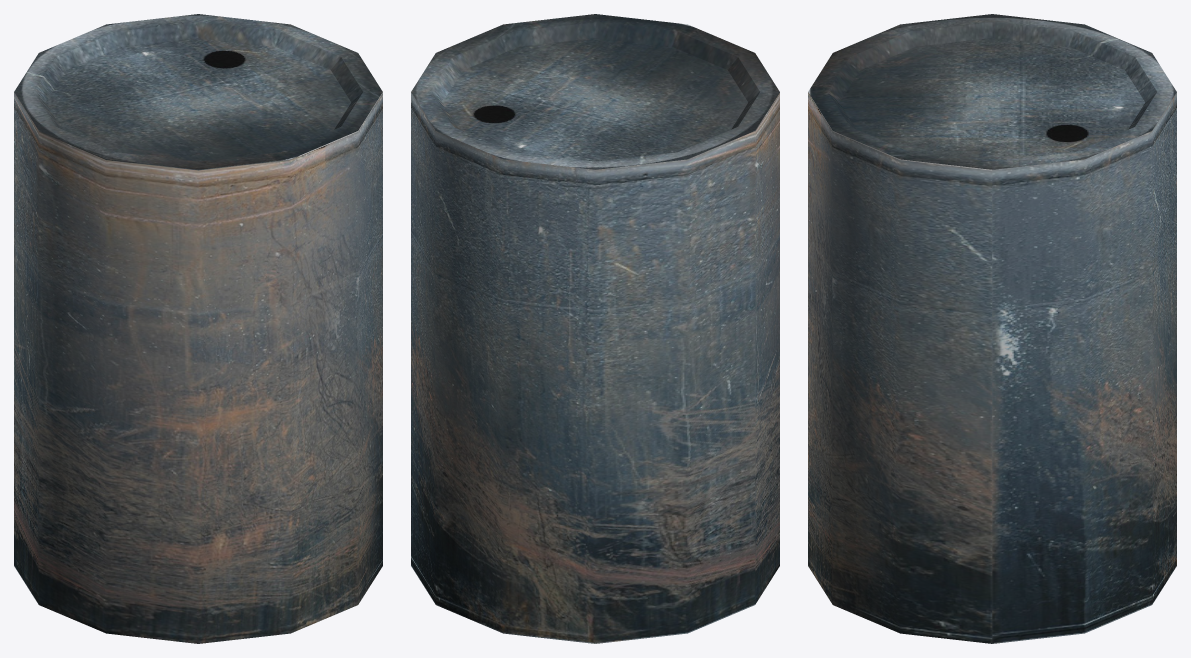
File: barrel.FBX
The picture shows the model from 3 angles, left to right: view 1: azimuth 30°, elevation 25°; view 2: azimuth 150°, elevation 25°; view 3: azimuth 270°, elevation 25°; orthographic projection.
Visible parts, largest first — view 1: Cylinder01; view 2: Cylinder01; view 3: Cylinder01.
Boxes of the visible parts, bbox=[...] form: Cylinder01: bbox=[14, 14, 382, 643]; Cylinder01: bbox=[411, 14, 779, 643]; Cylinder01: bbox=[808, 14, 1176, 643].
Size of the model in its own units: 100 by 100 by 142.
